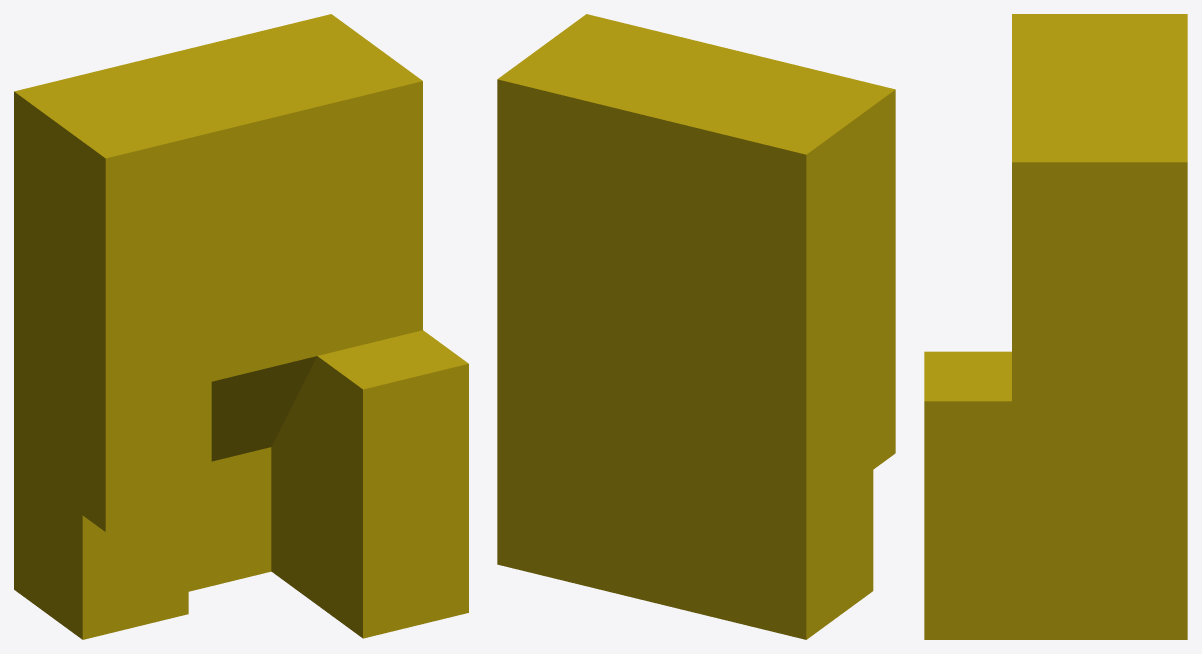
3 views of the same model, side by side, from view 1: azimuth 30°, elevation 25°; view 2: azimuth 150°, elevation 25°; view 3: azimuth 270°, elevation 25° (orthographic). The views are drawn at different scales.
Parts seen in each view (by area): view 1: Base; view 2: Base; view 3: Base.
Part boxes in pixels (x1=…): Base: x1=14, y1=14, x2=468, y2=639; Base: x1=497, y1=14, x2=895, y2=639; Base: x1=924, y1=14, x2=1187, y2=639.
Bounding box in the file's own units: 4 × 6 × 3.
